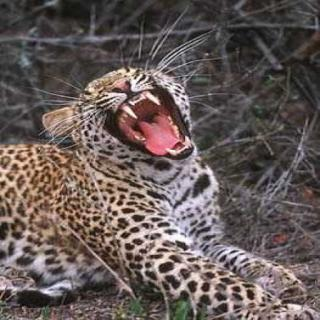Leopard: (19, 41, 319, 320)
